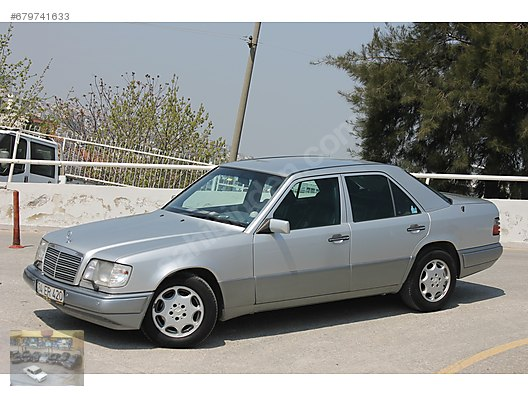mercedes: (18, 154, 503, 353)
